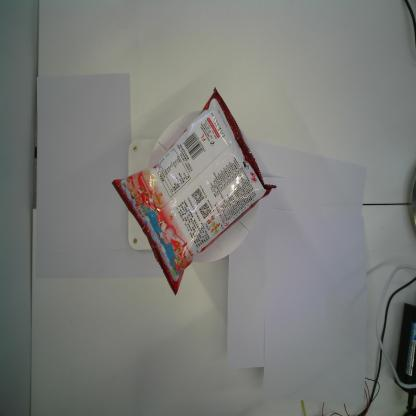Puffed Food: (112, 85, 278, 297)
